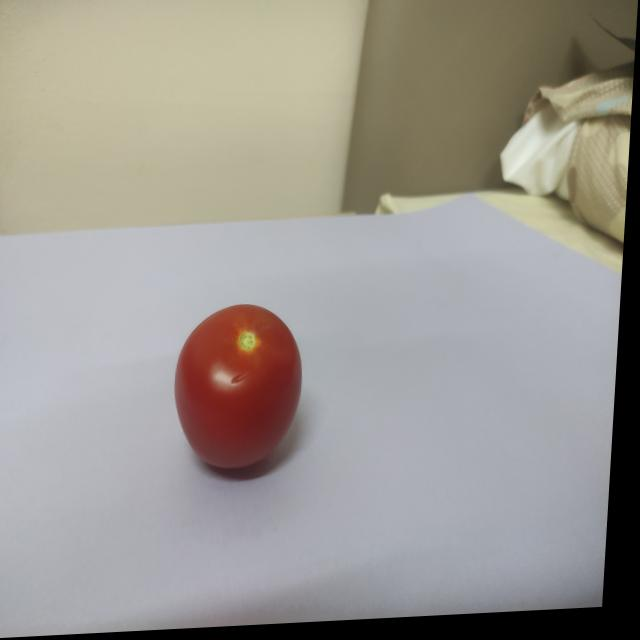kirmizi: (158, 281, 318, 483)
